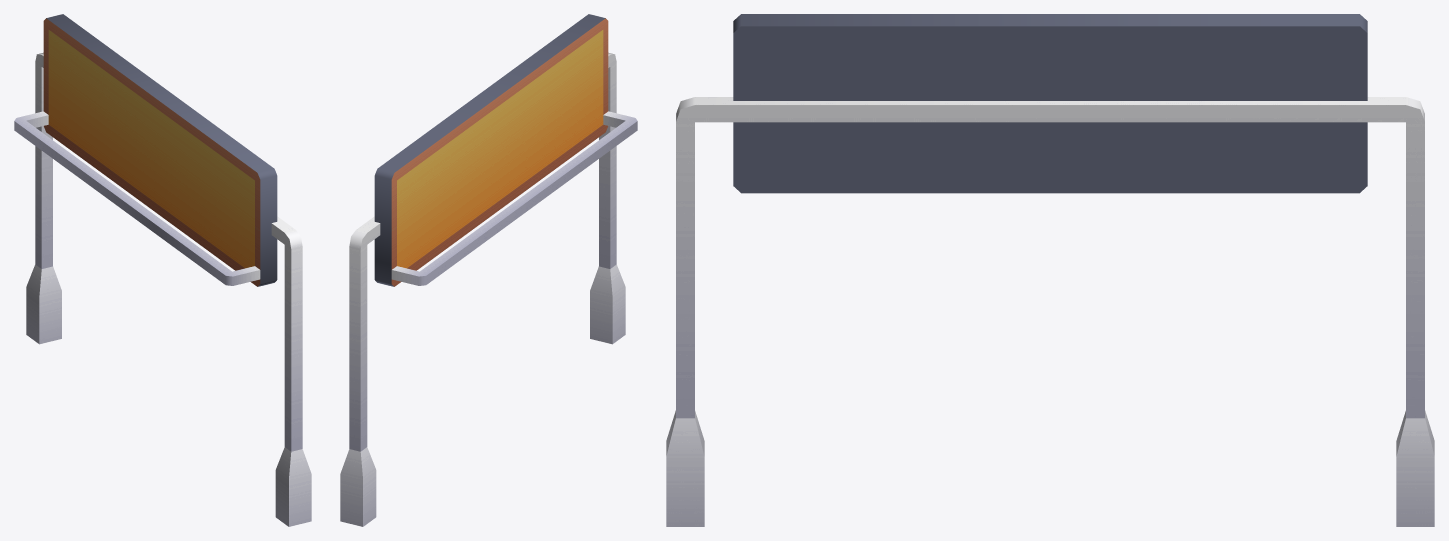
The model's file is sign-highway-wide.glb.
The picture shows the model from 3 angles, left to right: view 1: azimuth 30°, elevation 25°; view 2: azimuth 150°, elevation 25°; view 3: azimuth 270°, elevation 25°; orthographic projection. The views are drawn at different scales.
Visible parts, largest first — view 1: sign-highway-wide; view 2: sign-highway-wide; view 3: sign-highway-wide.
Part boxes in pixels (x1=…): sign-highway-wide: x1=14, y1=14, x2=311, y2=526; sign-highway-wide: x1=340, y1=14, x2=637, y2=526; sign-highway-wide: x1=666, y1=14, x2=1434, y2=526.
Bounding box in the file's own units: 0.1324 × 0.7074 × 1.
1 material, 1 textured.
